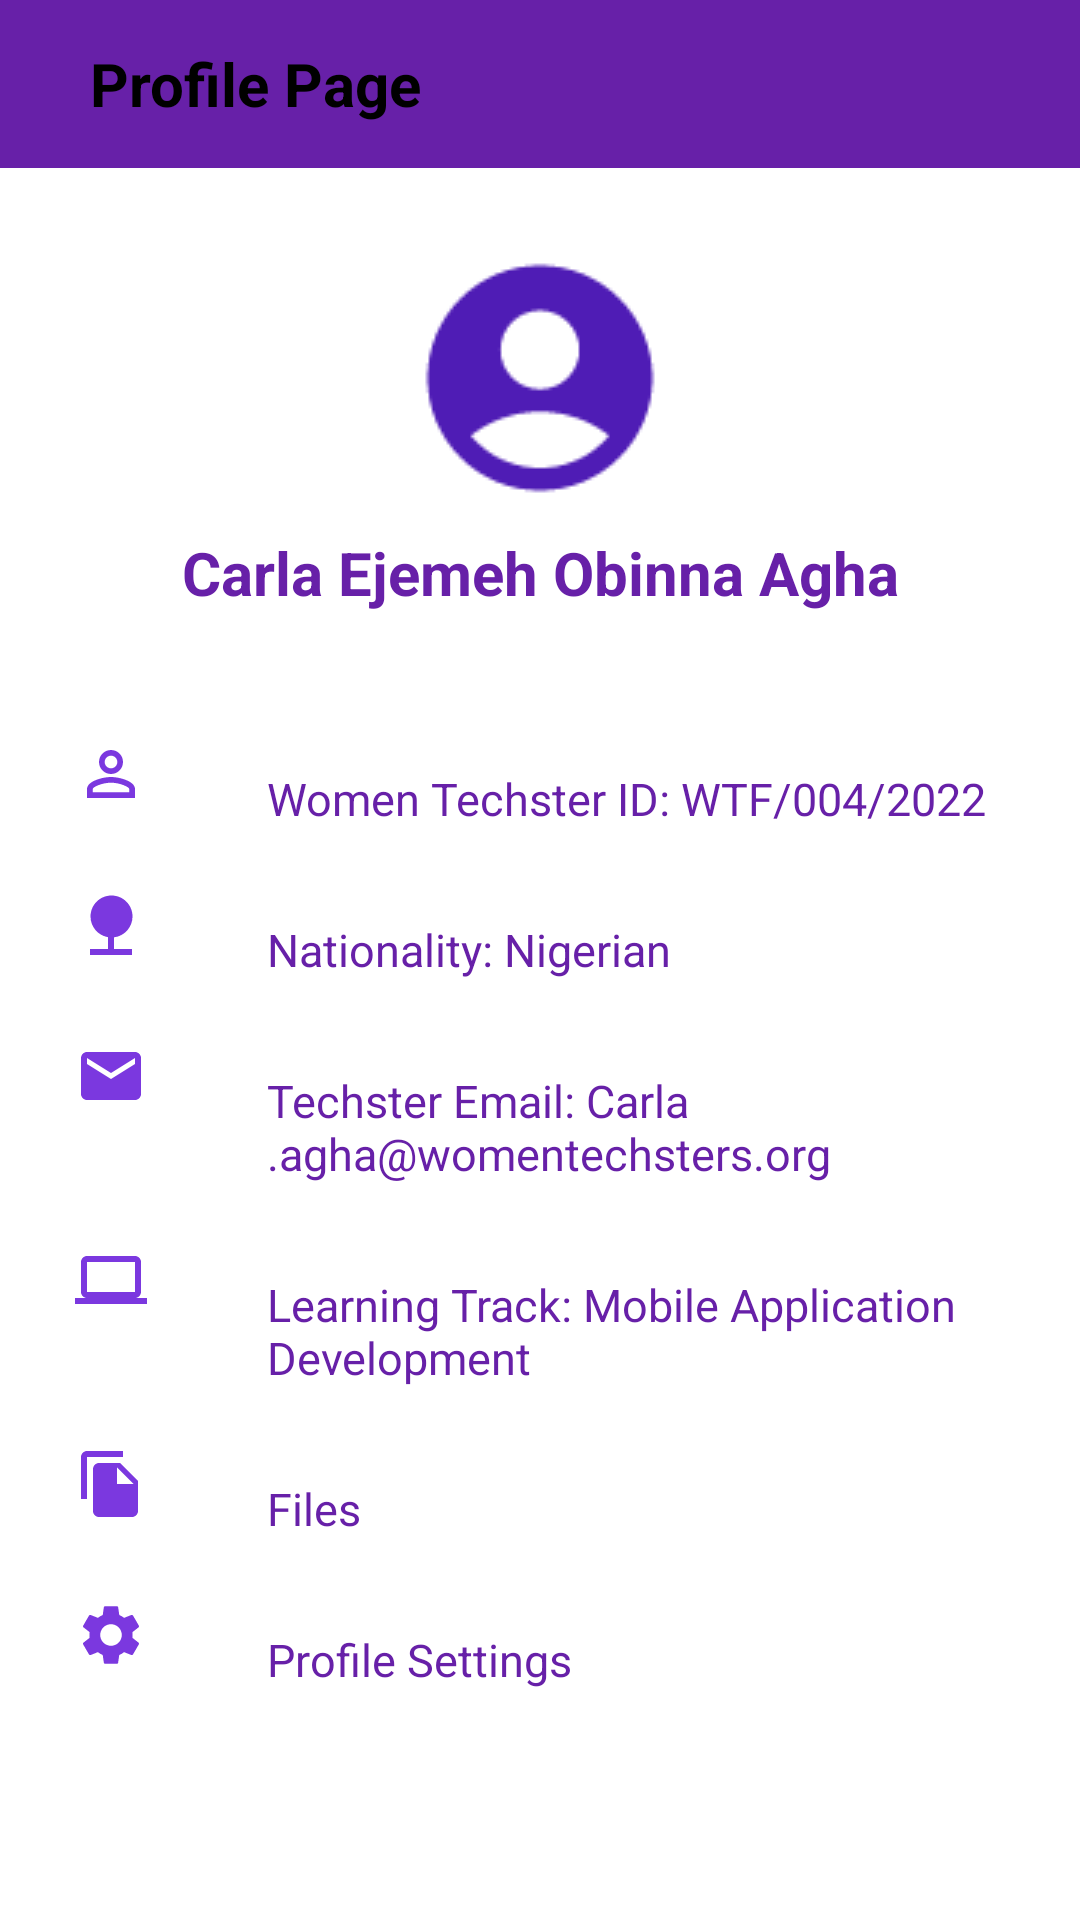

Where to tap for icons on this 1080×1920 app screen, as (x,y):
computer: (111,1280)
nature: (111,925)
perm identity: (111,774)
